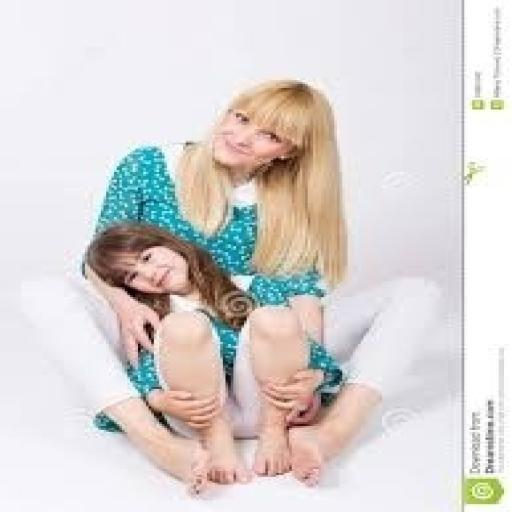hugging: (74, 76, 380, 494)
